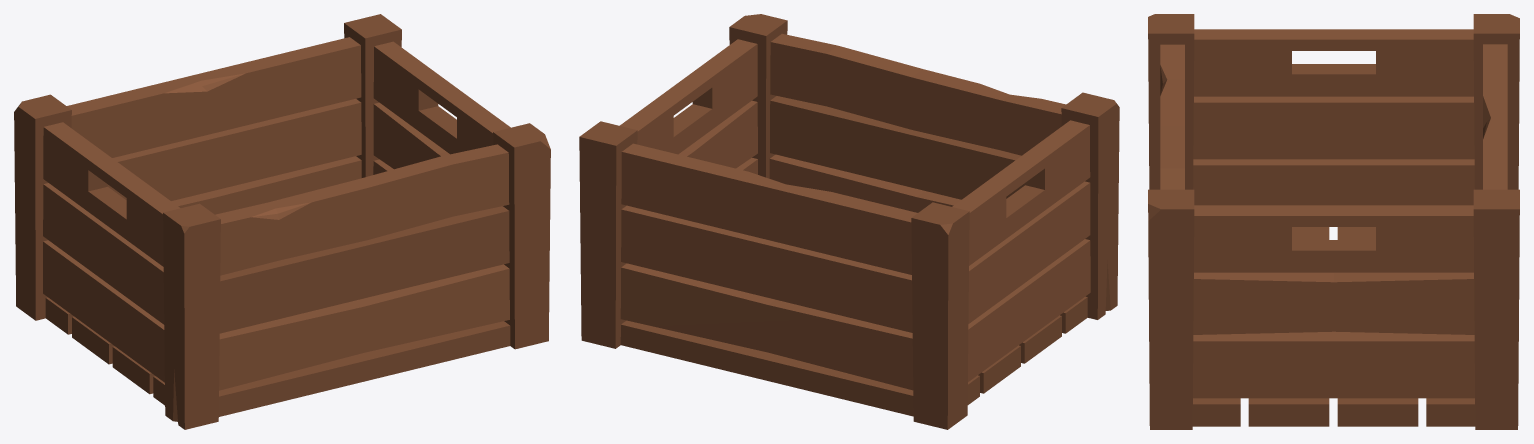
3 views of the same model, side by side, from view 1: azimuth 30°, elevation 25°; view 2: azimuth 150°, elevation 25°; view 3: azimuth 270°, elevation 25° (orthographic). The views are drawn at different scales.
Visible parts, largest first — view 1: Box_01_LOD0; view 2: Box_01_LOD0; view 3: Box_01_LOD0.
Boxes of the visible parts, x1,y1,x2,y2 form: Box_01_LOD0: (14,14,550,429); Box_01_LOD0: (579,14,1119,429); Box_01_LOD0: (1148,14,1519,429).
Size of what is drawn, in the model's own units: 0.666 by 0.3518 by 0.5355.
Materials: 1 (1 with a texture image).
